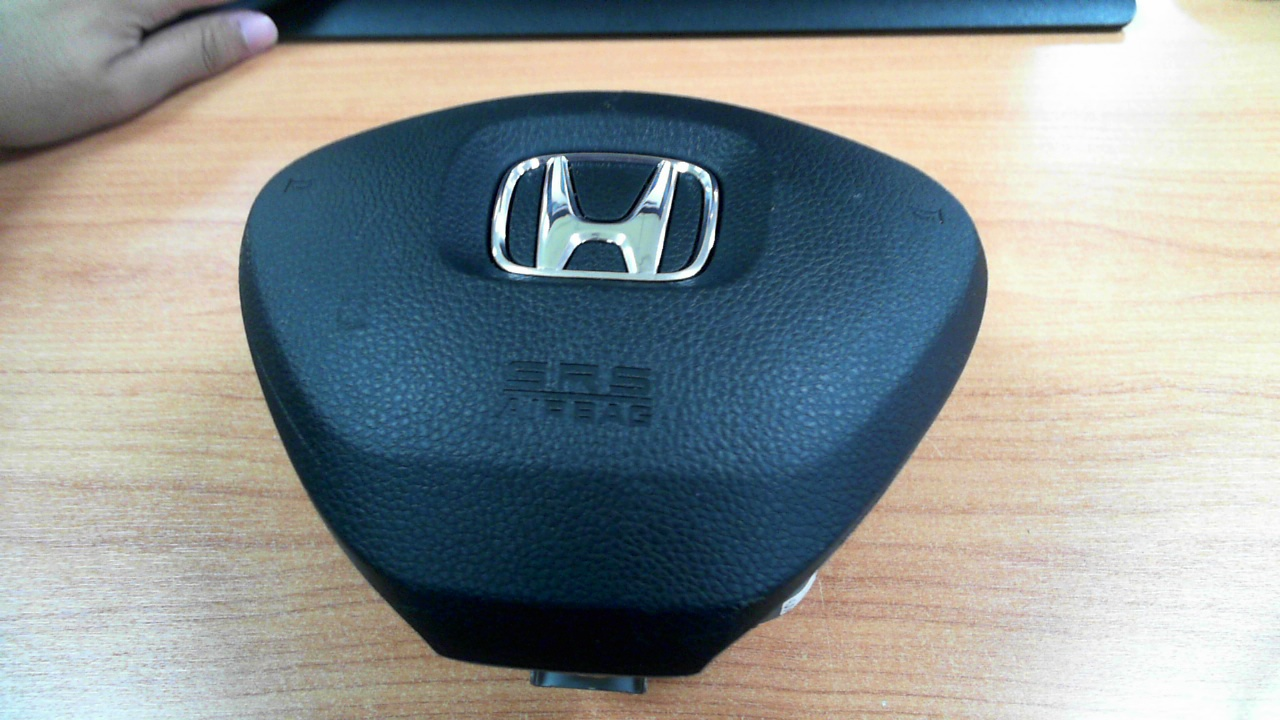Airbag: (237, 89, 990, 698)
Honda: (491, 152, 719, 281)
